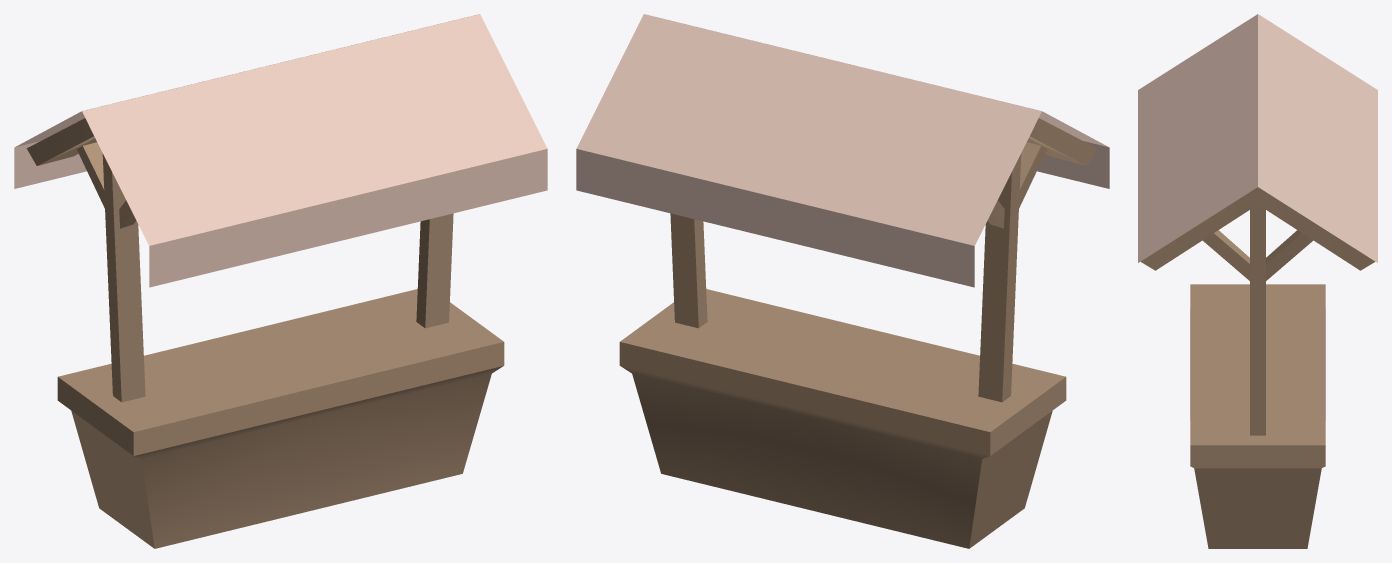
Rendered from Stand_Unwrapped.fbx.
3 renders of one model, left to right at view 1: azimuth 30°, elevation 25°; view 2: azimuth 150°, elevation 25°; view 3: azimuth 270°, elevation 25°, orthographic. The views are drawn at different scales.
Visible parts, largest first — view 1: marketstall; view 2: marketstall; view 3: marketstall.
Part boxes in pixels (x1,y1,x2,y2): marketstall: [14, 14, 547, 548]; marketstall: [576, 14, 1109, 548]; marketstall: [1138, 14, 1377, 548].
Size of the model in its own units: 110 by 113 by 64.17.
